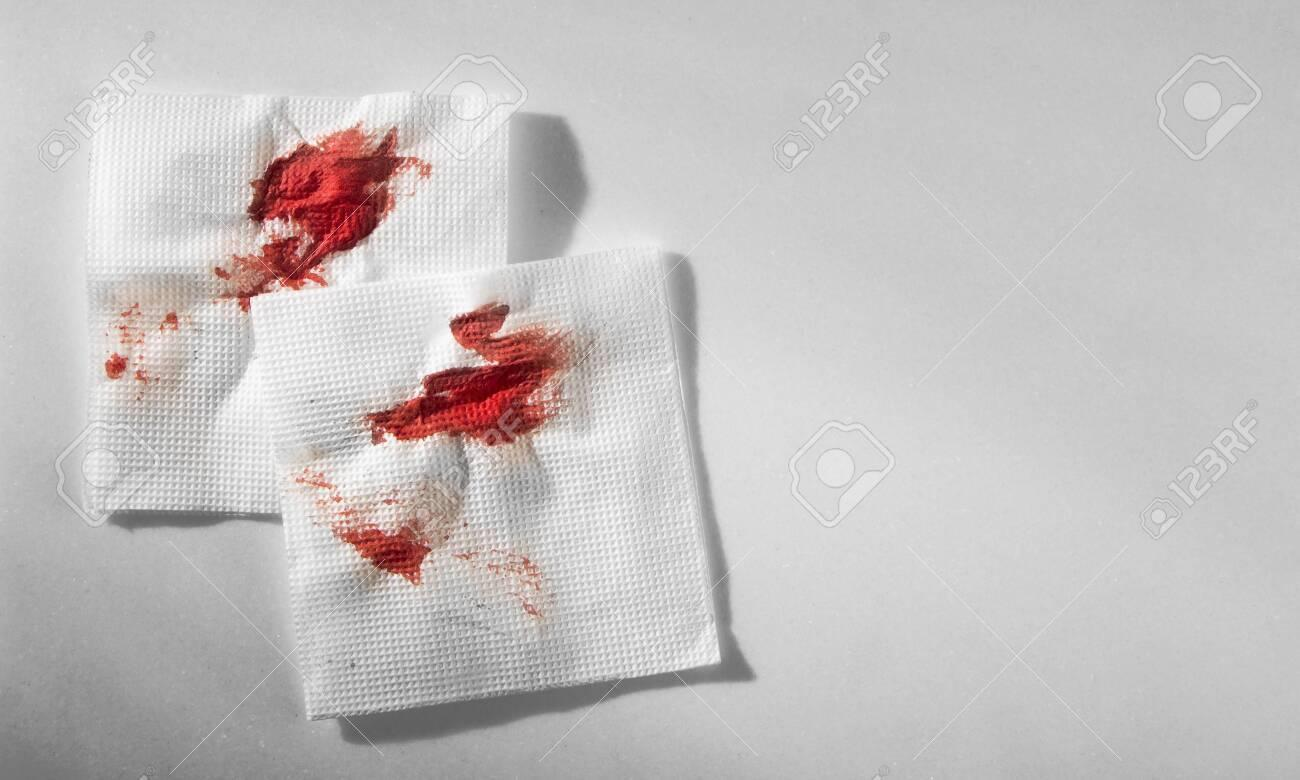Fire: (296, 302, 576, 584), (213, 123, 429, 310), (99, 303, 188, 421)
